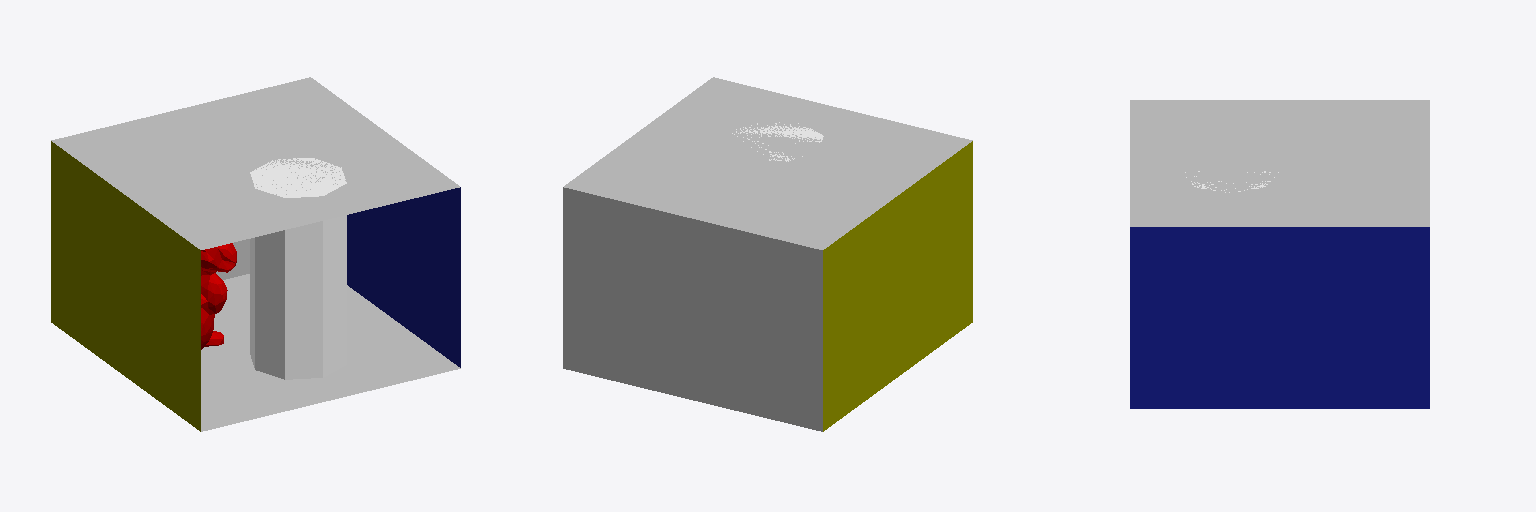
Rendered from squirrel-cylinder.obj.
The picture shows the model from 3 angles: view 1: azimuth 30°, elevation 25°; view 2: azimuth 150°, elevation 25°; view 3: azimuth 270°, elevation 25°; orthographic projection.
Parts seen in each view (by area): view 1: Walls, Cylinder, squirrel1k; view 2: Walls, Cylinder; view 3: Walls.
Part boxes in pixels (x1,y1,x2,y2): Walls: (51, 77, 460, 431); Cylinder: (250, 158, 346, 379); squirrel1k: (201, 243, 236, 349); Walls: (563, 77, 972, 431); Cylinder: (732, 122, 823, 161); Walls: (1130, 100, 1429, 408).
Bounding box in the file's own units: 3 × 2.03 × 3.